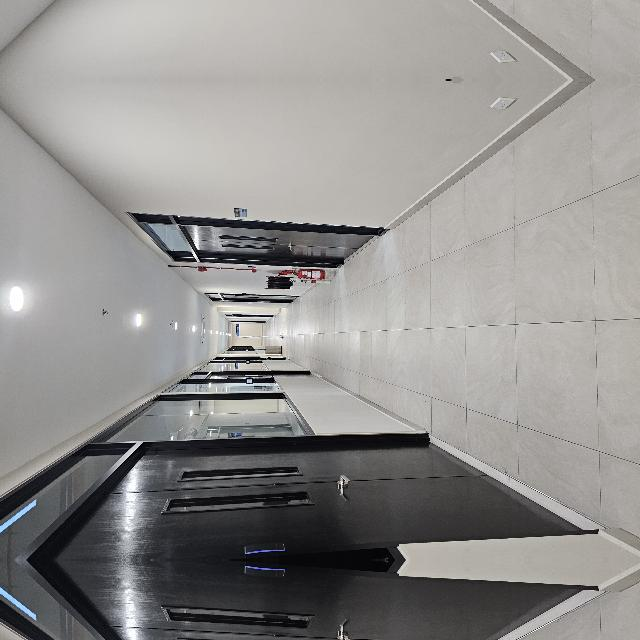door: (1, 110, 126, 640), (1, 442, 126, 640), (298, 272, 338, 460), (1, 0, 126, 50)
obstacle: (267, 338, 293, 408)
